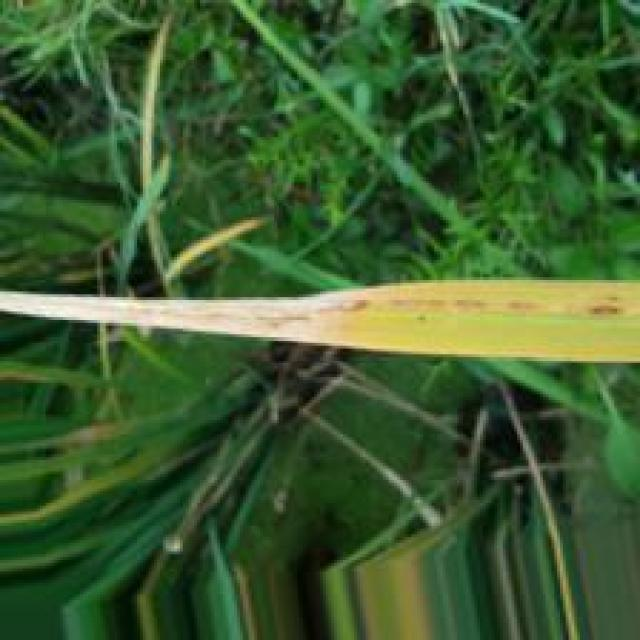Narrow_Brown_Leaf_Spot: (0, 275, 640, 356)
